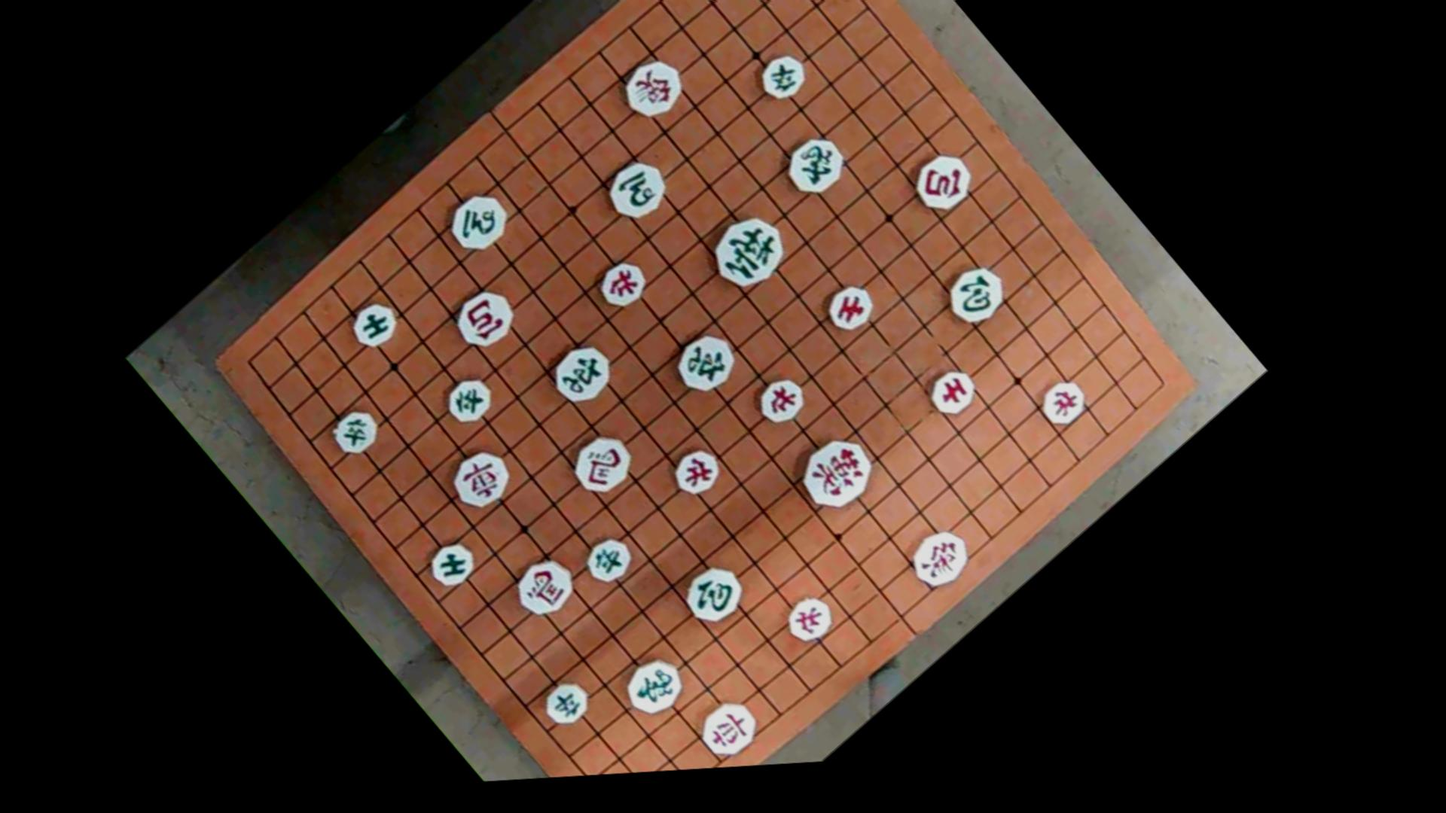cha_green: (666, 323, 747, 403), (545, 334, 621, 410)
cha_red: (689, 689, 769, 768), (443, 442, 520, 518)
jol_green: (577, 528, 642, 591), (436, 368, 500, 431), (323, 400, 386, 463), (749, 46, 813, 108), (535, 675, 594, 732)
jol_red: (747, 369, 813, 434), (663, 436, 728, 501), (589, 252, 654, 317), (1030, 370, 1095, 434), (777, 588, 840, 650)
ma_green: (597, 149, 677, 228), (438, 180, 517, 259)
ma_red: (560, 425, 642, 507), (505, 548, 584, 626)
po_green: (673, 553, 755, 634), (937, 254, 1016, 332)
po_red: (903, 141, 982, 220), (443, 280, 523, 358)
sa_green: (419, 533, 481, 595), (342, 292, 404, 353)
sa_red: (918, 358, 984, 422), (819, 277, 880, 338)
sang_green: (774, 128, 854, 206), (615, 648, 694, 726)
sang_red: (614, 50, 691, 126), (904, 519, 979, 593)
wang_green: (700, 204, 795, 299)
wang_red: (791, 428, 883, 518)
